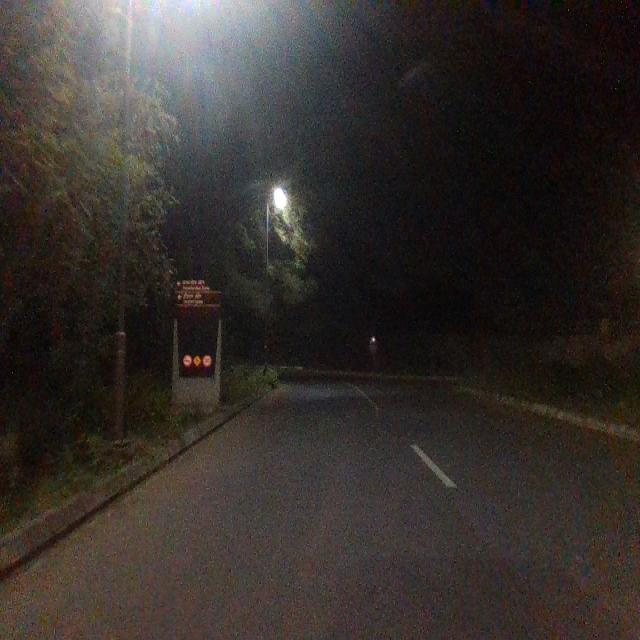lane: (0, 389, 575, 640)
